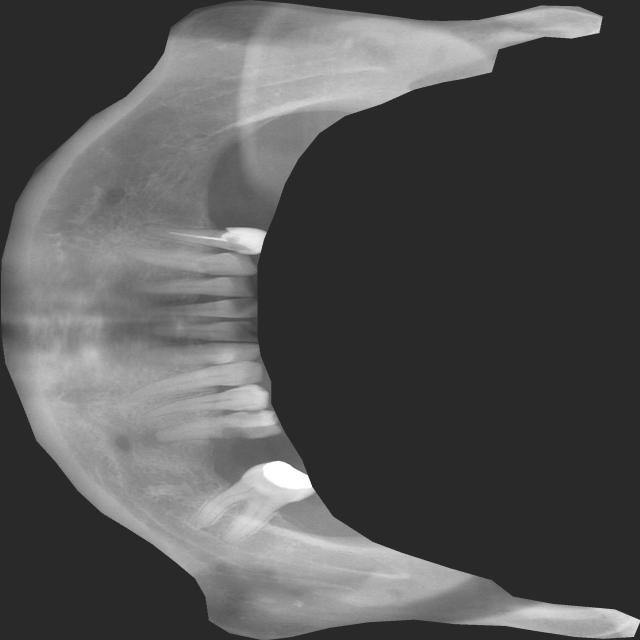mandibula: (0, 0, 640, 640)
